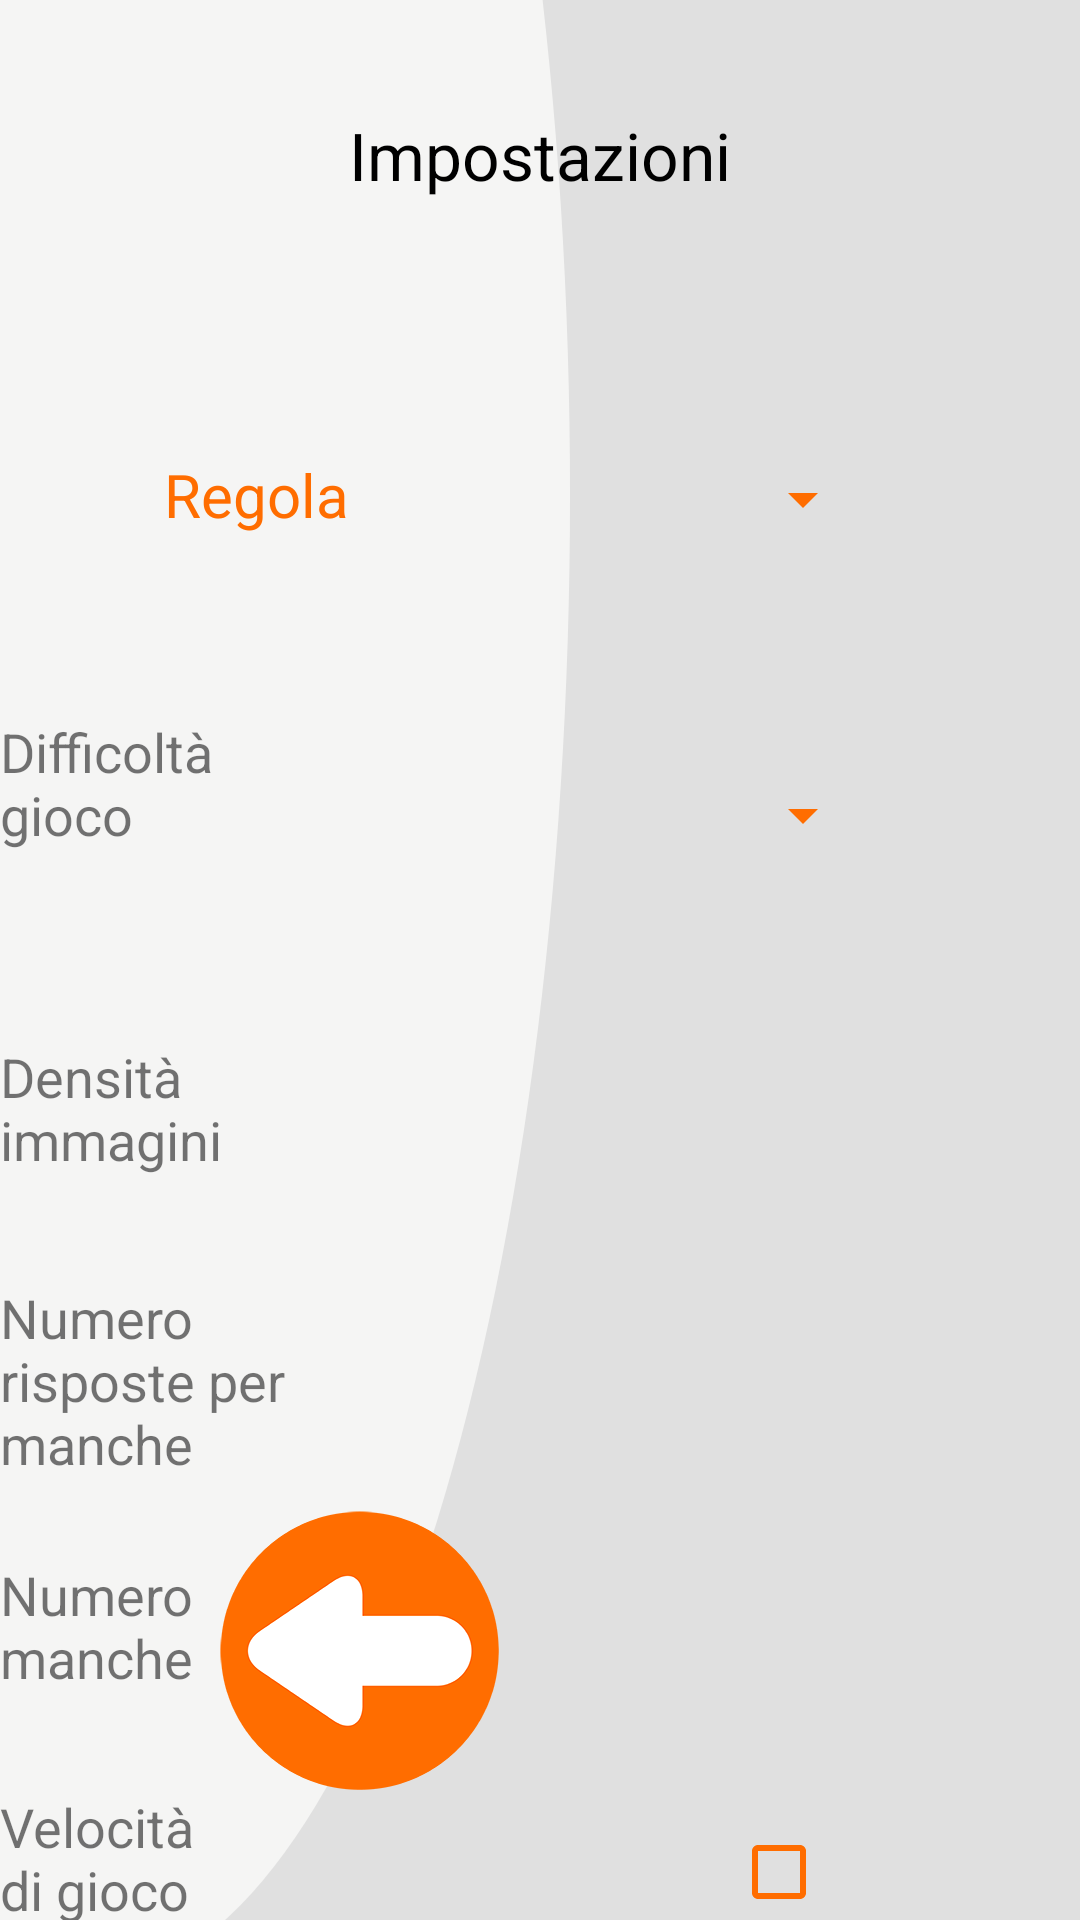

Named icons in this screenshot (1080w x 1920h) and their bounding boxes, (x1, y1, x2, y2):
tasto indietro: (220, 1511, 499, 1790)
